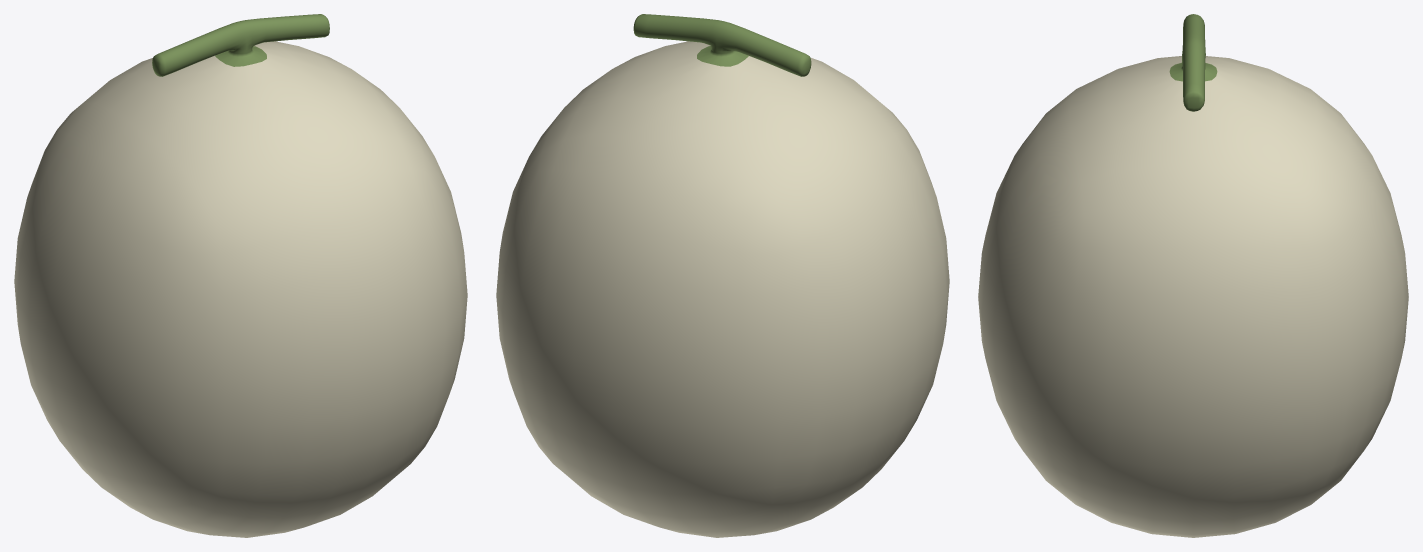
Rendered from SusinMelon.fbx.
3 views of the same model, side by side, from view 1: azimuth 30°, elevation 25°; view 2: azimuth 150°, elevation 25°; view 3: azimuth 270°, elevation 25° (orthographic). The views are drawn at different scales.
Visible parts, largest first — view 1: Cube; view 2: Cube; view 3: Cube.
Part boxes in pixels (x1,y1,x2,y2): Cube: (14,14,467,537); Cube: (496,14,949,537); Cube: (978,14,1408,537).
Bounding box in the file's own units: 168 × 205 × 168.
